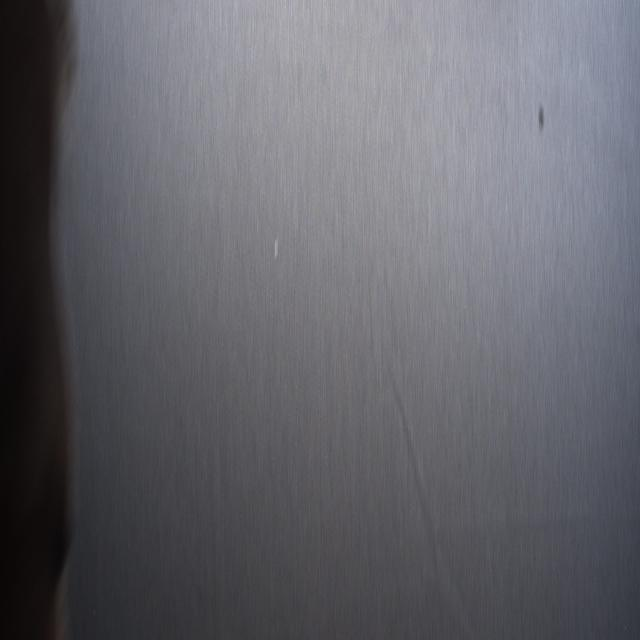crease: (387, 359, 469, 616)
whiteDefect: (274, 231, 279, 268)
